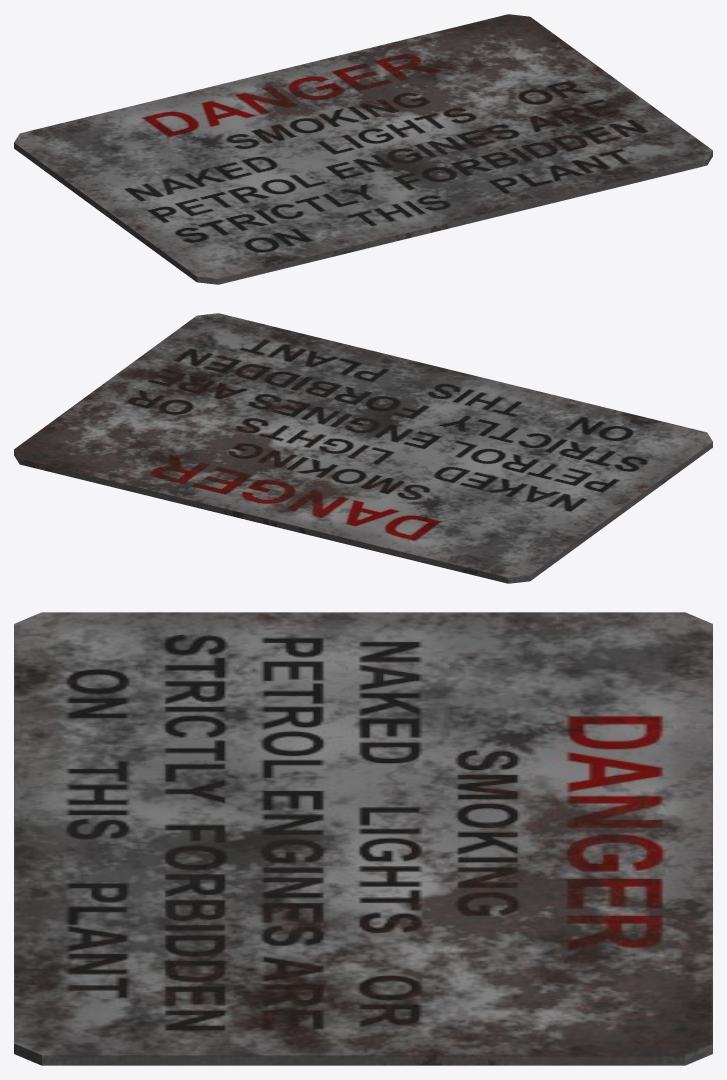
Rendered from Sign_Danger.fbx.
The picture shows the model from 3 angles, top to bottom: view 1: azimuth 30°, elevation 25°; view 2: azimuth 150°, elevation 25°; view 3: azimuth 270°, elevation 25°; orthographic projection. The views are drawn at different scales.
Visible parts, largest first — view 1: Sign_Danger; view 2: Sign_Danger; view 3: Sign_Danger.
Boxes of the visible parts, x1=… form: Sign_Danger: x1=14, y1=14, x2=712, y2=284; Sign_Danger: x1=14, y1=313, x2=712, y2=583; Sign_Danger: x1=14, y1=612, x2=712, y2=1065.
Bounding box in the file's own units: 72.37 × 0.8 × 48.25.
